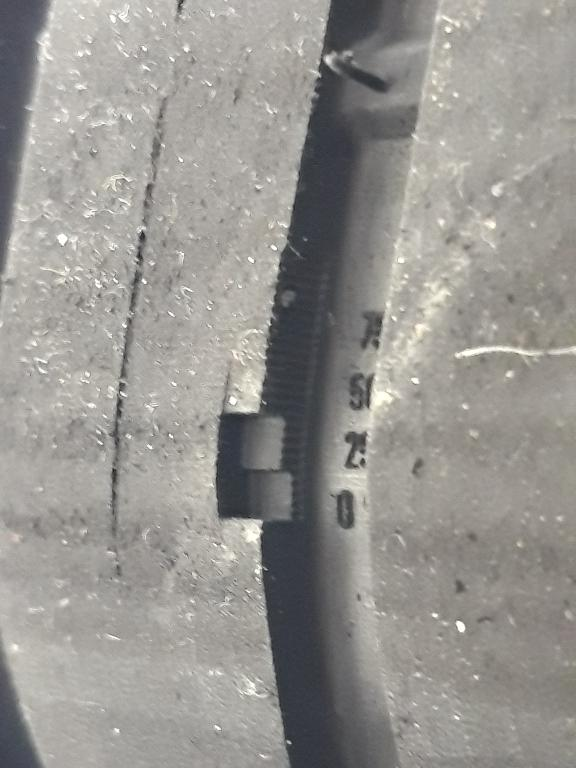temoin:50: (204, 358, 330, 535)
